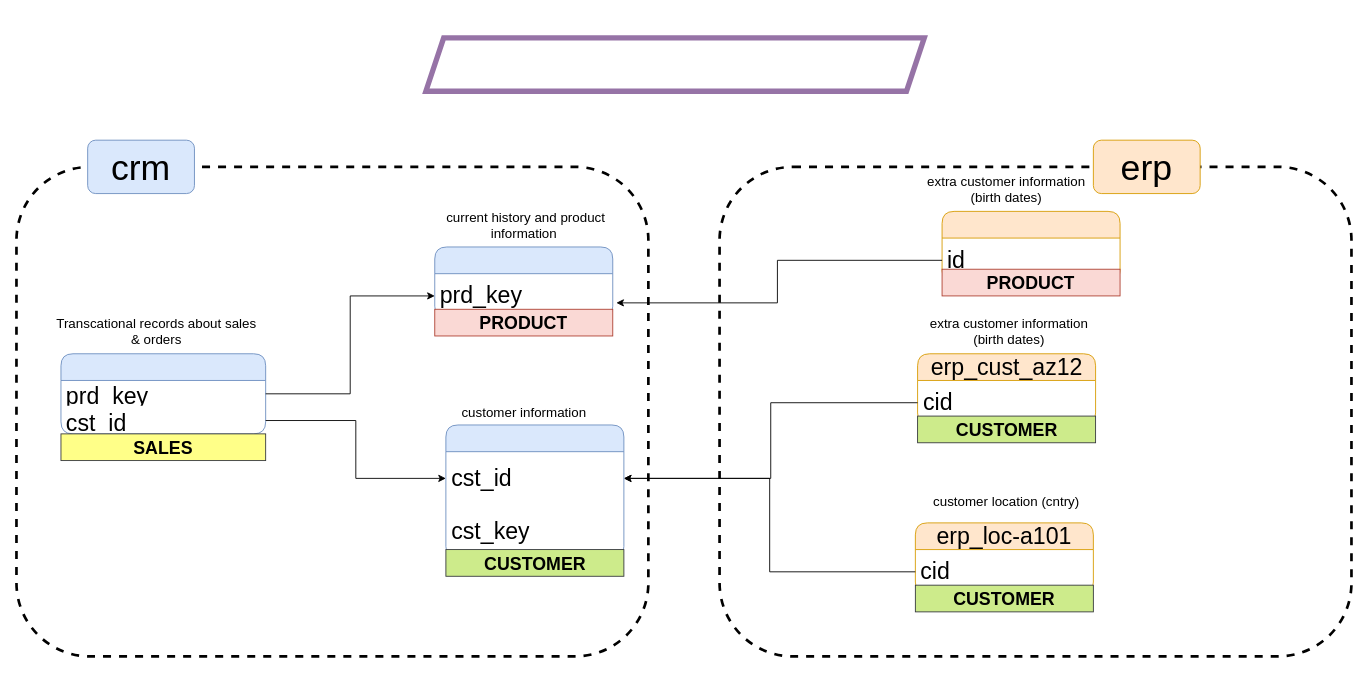
Image size: 1368x673. Some labels were removed from this diagram. Here are the shapes that lost their labels. From the top down, the box of each, then its label:
(423, 35, 926, 93): Integration Model ( how tables are related )
(941, 210, 1120, 283): erp_px_cat_g1v2
(434, 246, 613, 318): cst_prd_info
(60, 353, 266, 434): crm_sales_details
(445, 424, 624, 558): crm_cust_info
